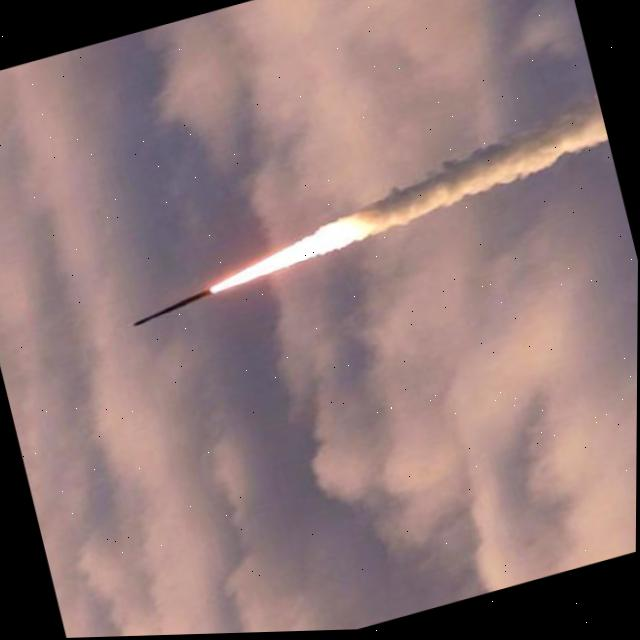missile: (123, 278, 220, 339)
